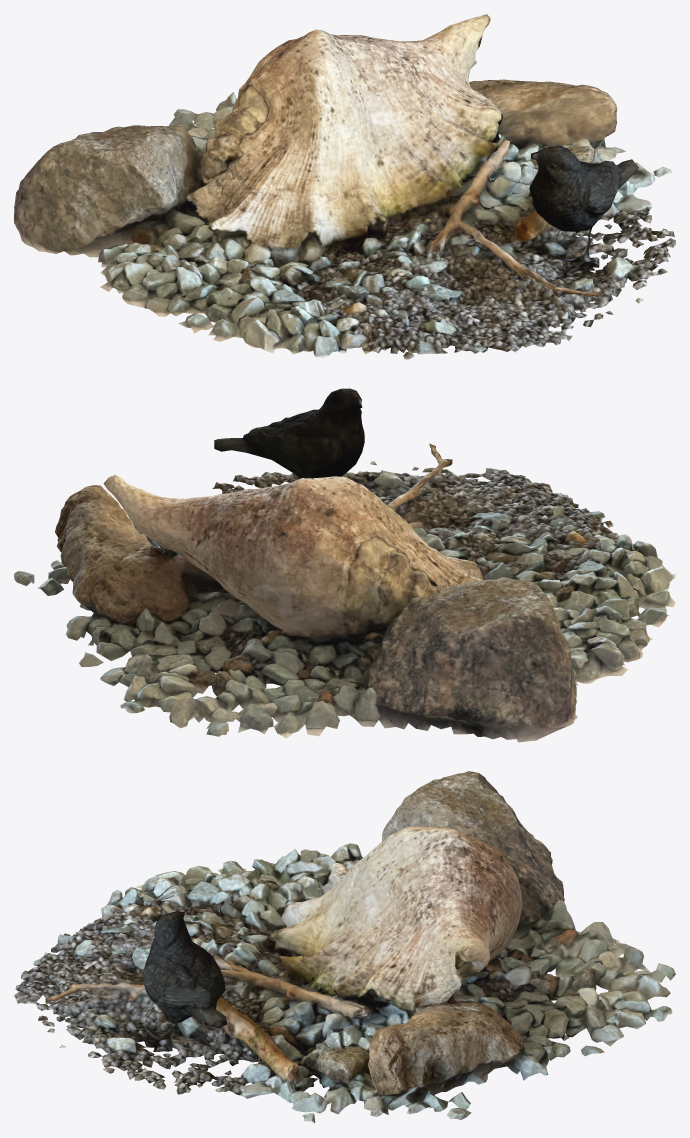
Rendered from Untitled_Scan_17_03_15.gltf.
3 views of the same model, one above another, from view 1: azimuth 30°, elevation 25°; view 2: azimuth 150°, elevation 25°; view 3: azimuth 270°, elevation 25° (orthographic). The views are drawn at different scales.
Size of the model in its own units: 0.3496 by 0.0977 by 0.3582.
1 material, 1 textured.
